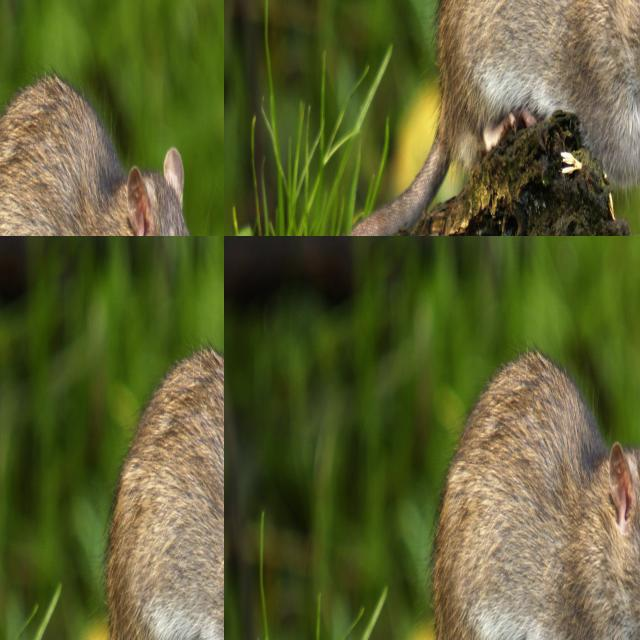rat: (432, 353, 640, 640), (0, 236, 36, 482)
